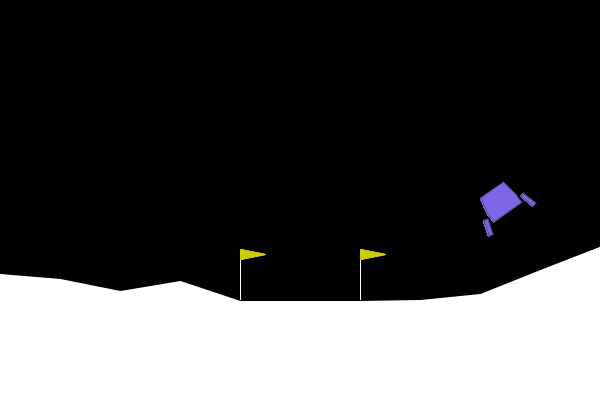lander: (466, 172, 538, 239)
